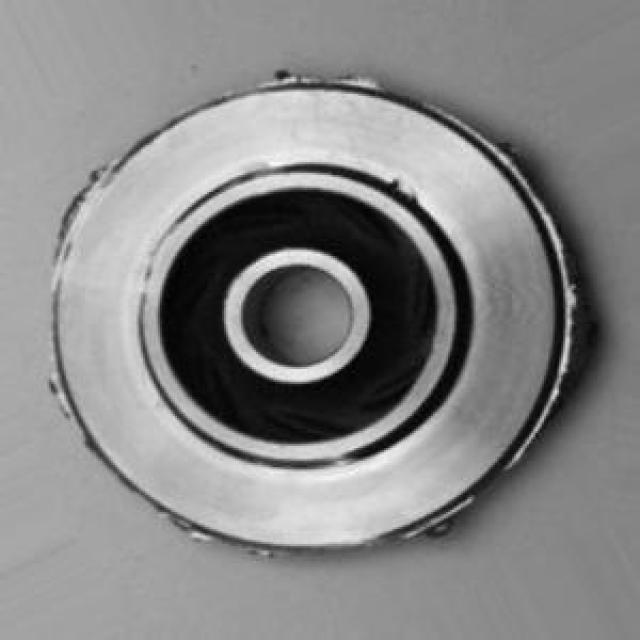Defect: (562, 272, 594, 384), (310, 59, 388, 94)
